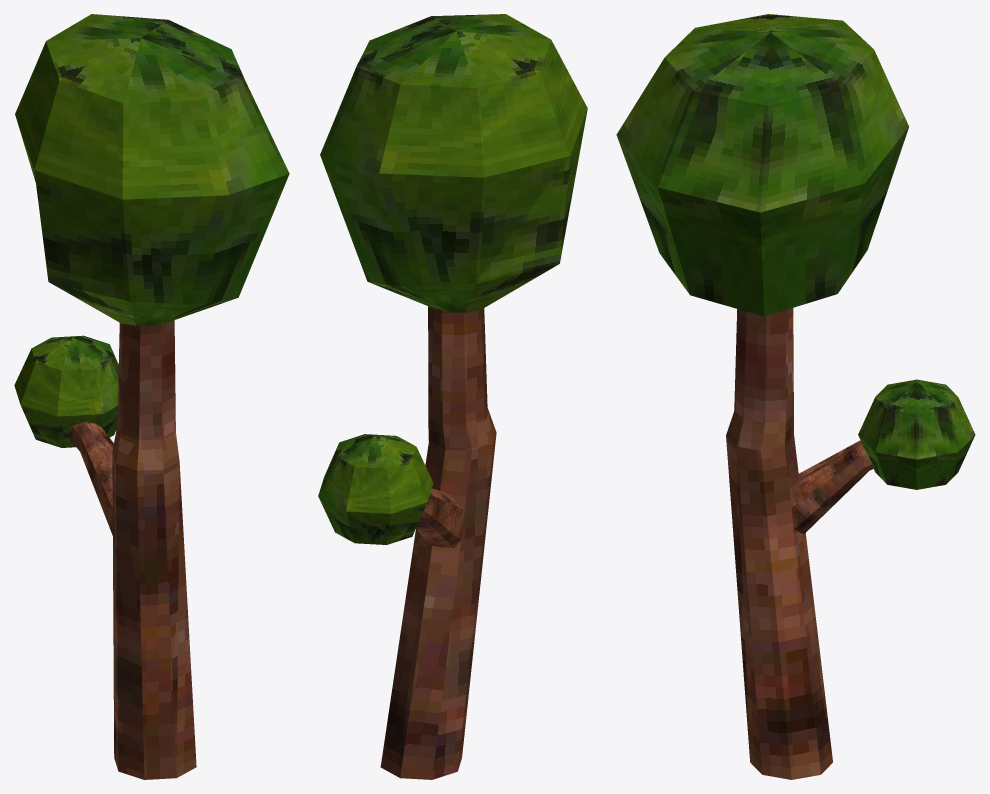
File: test_tree.obj
3 renders of one model, left to right at view 1: azimuth 30°, elevation 25°; view 2: azimuth 150°, elevation 25°; view 3: azimuth 270°, elevation 25°, orthographic. The views are drawn at different scales.
Parts seen in each view (by area): view 1: Sphere, Cylinder, Sphere.001, Circle; view 2: Sphere, Cylinder, Sphere.001, Circle; view 3: Sphere, Cylinder, Sphere.001, Circle.
Boxes of the visible parts, x1,y1,x2,y2 form: Sphere: [15, 14, 289, 325]; Cylinder: [112, 320, 196, 779]; Sphere.001: [14, 335, 118, 447]; Circle: [70, 422, 113, 534]; Sphere: [320, 14, 587, 312]; Cylinder: [380, 306, 496, 779]; Sphere.001: [318, 434, 433, 544]; Circle: [416, 488, 464, 548]; Sphere: [616, 14, 908, 316]; Cylinder: [726, 308, 832, 779]; Sphere.001: [858, 379, 975, 489]; Circle: [791, 440, 873, 533].
Bounding box in the file's own units: 0.9856 × 2.97 × 1.35.
